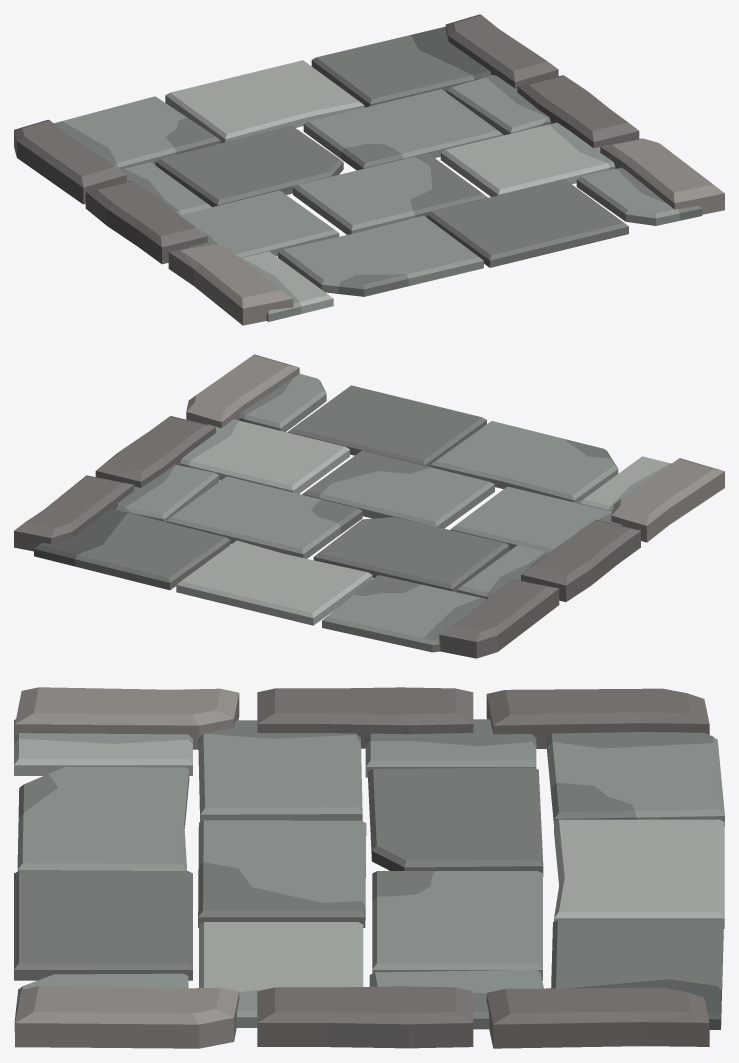
File: SM_Env_Path_Tile_01.gltf
3 views of the same model, one above another, from view 1: azimuth 30°, elevation 25°; view 2: azimuth 150°, elevation 25°; view 3: azimuth 270°, elevation 25° (orthographic). The views are drawn at different scales.
Visible parts, largest first — view 1: SM_Env_Path_Tile_01; view 2: SM_Env_Path_Tile_01; view 3: SM_Env_Path_Tile_01.
Boxes of the visible parts, bbox=[...] form: SM_Env_Path_Tile_01: bbox=[14, 14, 724, 325]; SM_Env_Path_Tile_01: bbox=[14, 354, 724, 658]; SM_Env_Path_Tile_01: bbox=[14, 687, 724, 1048].
Bounding box in the file's own units: 3.29 × 0.1447 × 2.97.
Materials: 1 (1 with a texture image).
